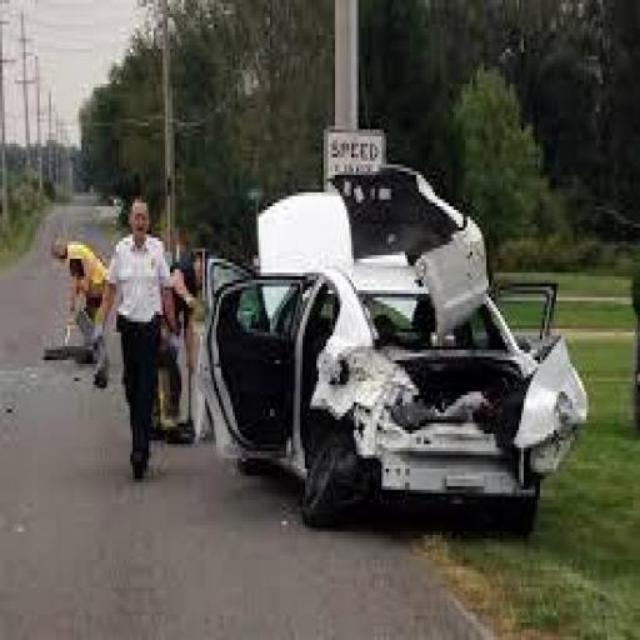crash: (294, 165, 593, 504)
